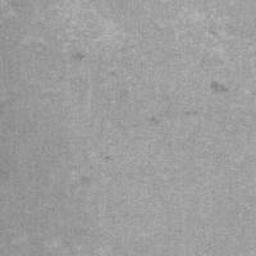Inclusion: (211, 82, 229, 93), (73, 51, 86, 61), (148, 115, 160, 125), (102, 154, 111, 164)
